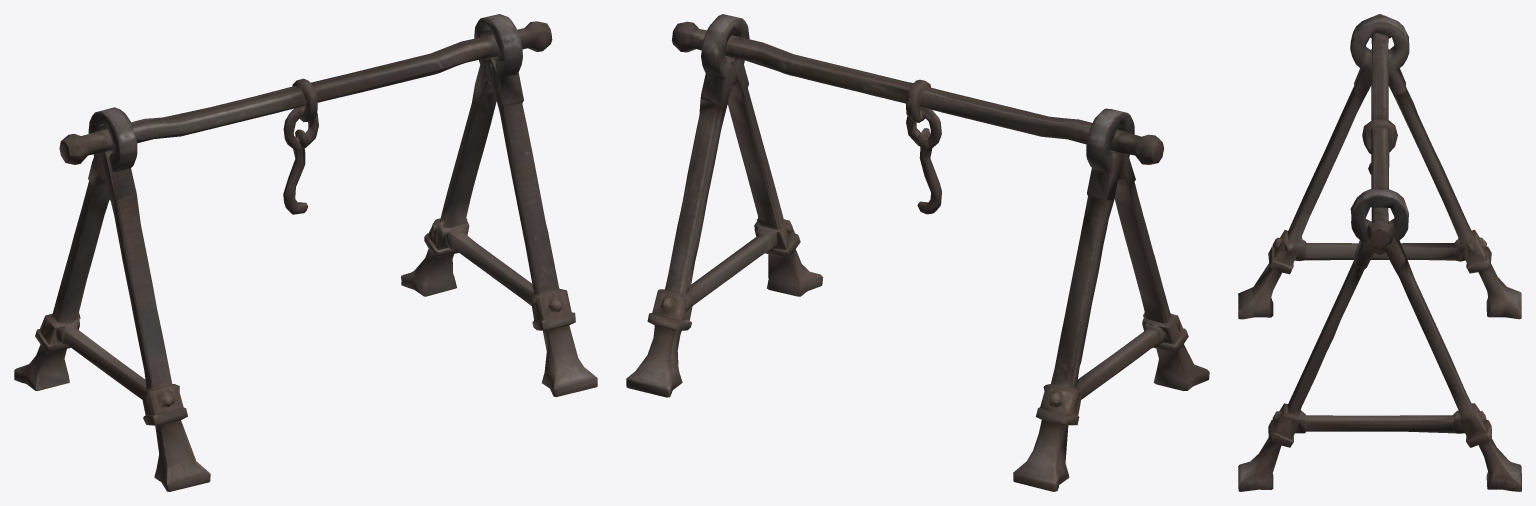
3 views of the same model, side by side, from view 1: azimuth 30°, elevation 25°; view 2: azimuth 150°, elevation 25°; view 3: azimuth 270°, elevation 25° (orthographic). The views are drawn at different scales.
Parts seen in each view (by area): view 1: geometry_0; view 2: geometry_0; view 3: geometry_0.
Boxes of the visible parts, x1=… form: geometry_0: x1=14, y1=14, x2=597, y2=491; geometry_0: x1=626, y1=14, x2=1209, y2=491; geometry_0: x1=1238, y1=14, x2=1521, y2=491.
Size of the model in its own units: 0.899 by 0.5681 by 0.5011.
1 material, 1 textured.
